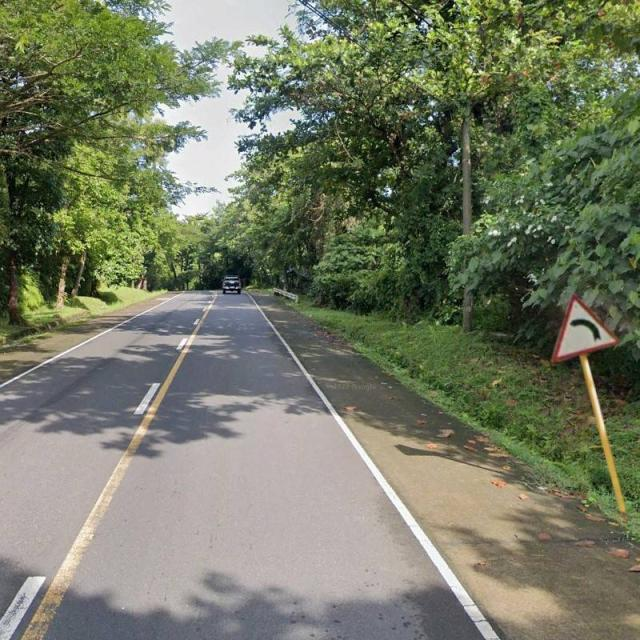warn_left_curve: (551, 293, 619, 362)
